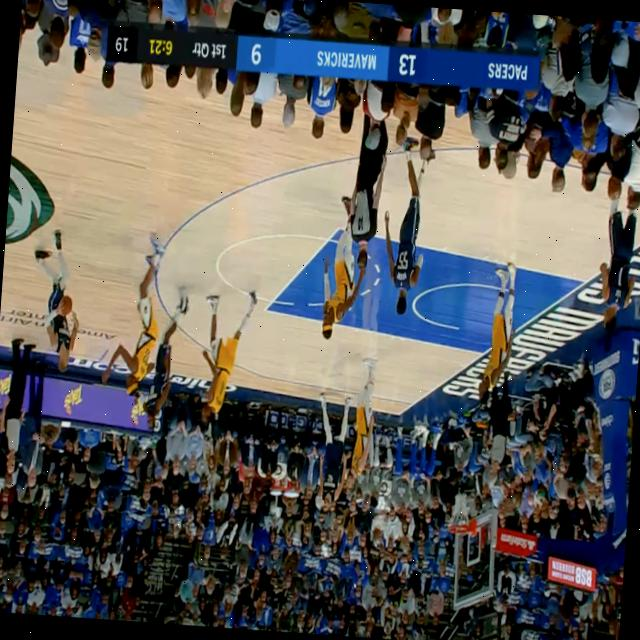no foul: (308, 168, 451, 352), (110, 233, 191, 437)
